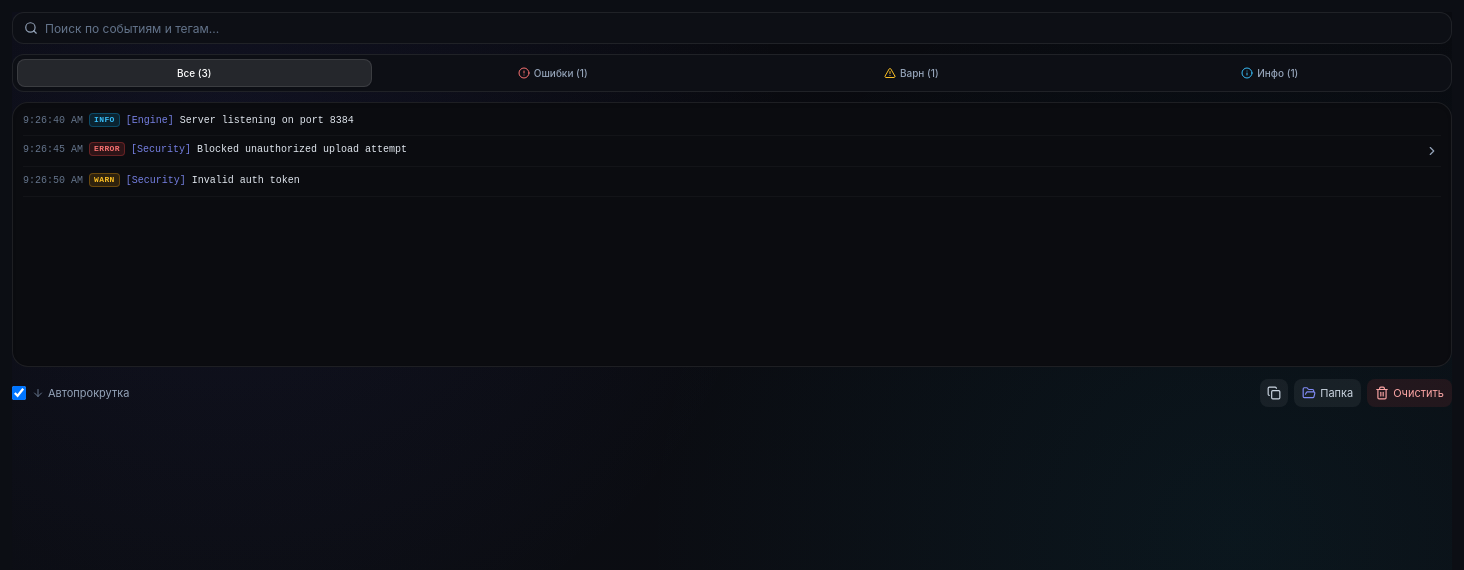
Test case: LogsSection › toggles log details accordion
expect the text "Blocked unauthorized upload attempt" is shown: met, box [197, 144, 407, 155]
expect the text "Stack trace details here" is not shown: met
# Click detail expand button
Click the button titled "Показать детали" at (1432, 151), box [1423, 142, 1441, 160]
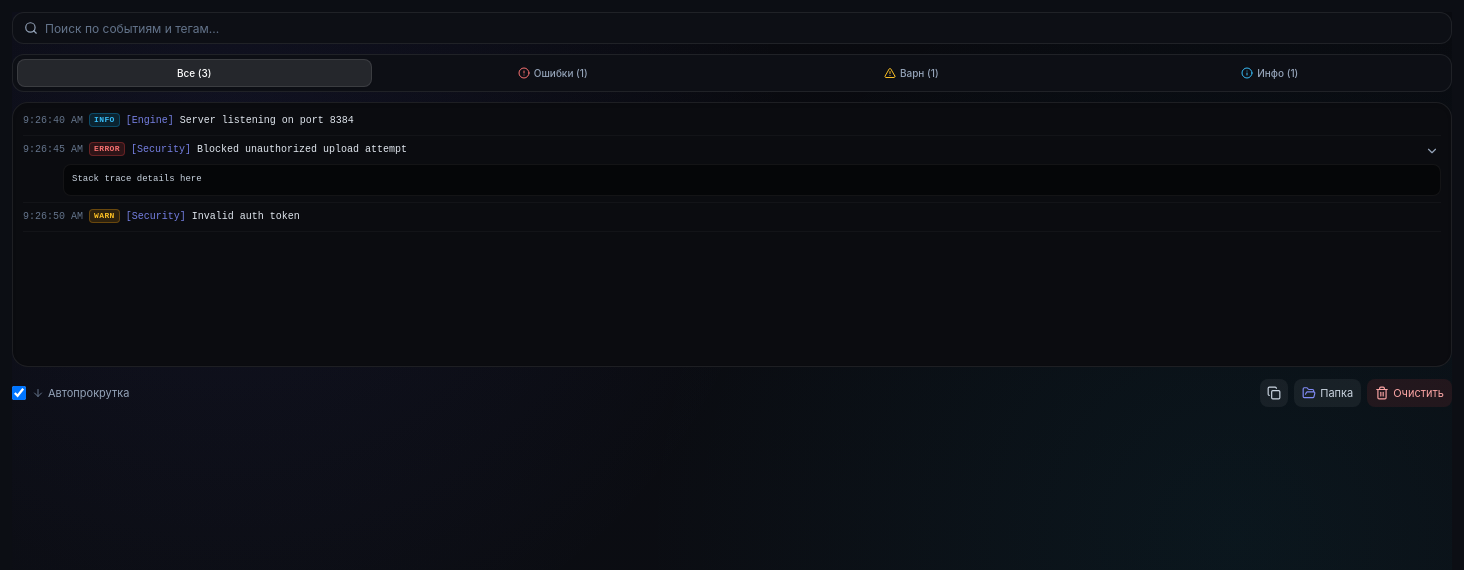
expect the text "Stack trace details here" is shown: met, box [63, 164, 1441, 196]
